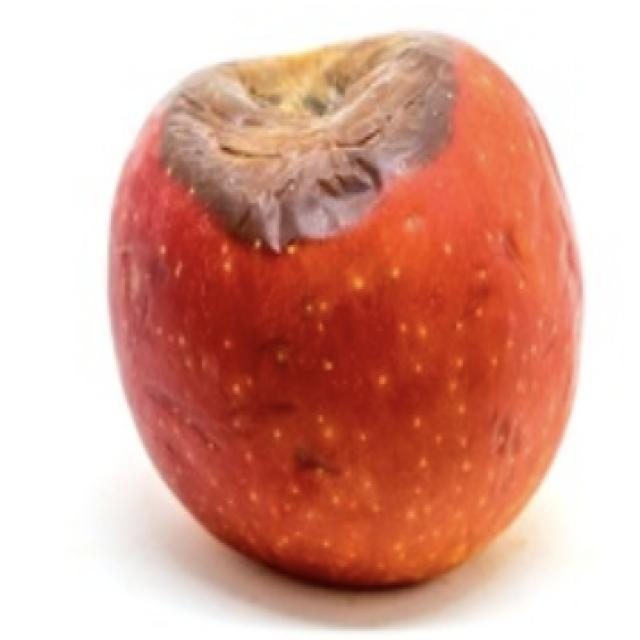Rotten: (132, 47, 560, 550)
